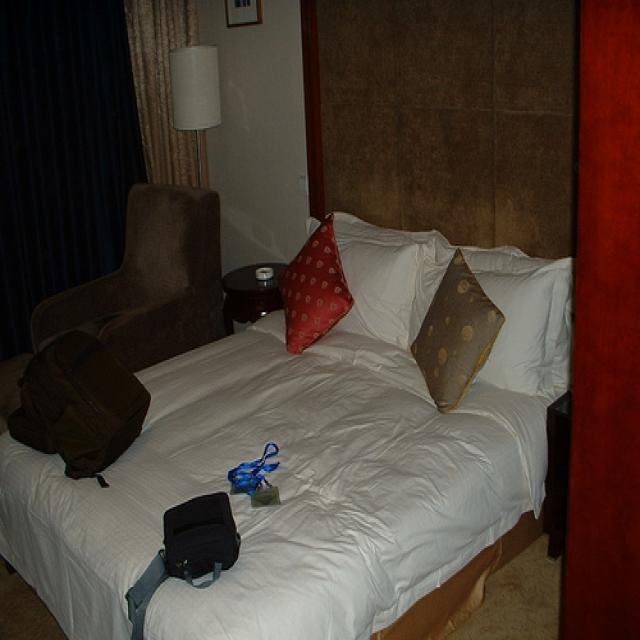Table: (540, 346, 627, 551), (211, 225, 305, 345)
chair: (13, 179, 229, 391)
